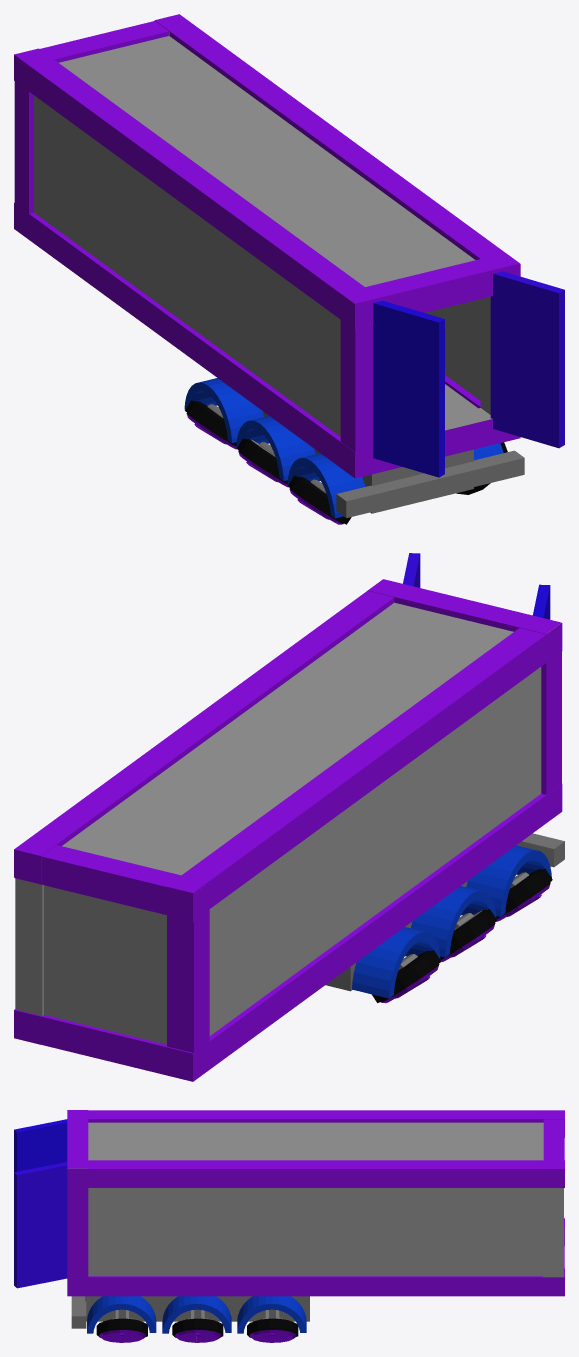
Rendered from trailer2_one_figure_colored.fbx.
The picture shows the model from 3 angles, top to bottom: view 1: azimuth 30°, elevation 25°; view 2: azimuth 150°, elevation 25°; view 3: azimuth 270°, elevation 25°; orthographic projection. The views are drawn at different scales.
Parts seen in each view (by area): view 1: Cube.024, Cube.092, Cube.000; view 2: Cube.024; view 3: Cube.024, Cube.092, Cube.000.
Boxes of the visible parts, left/top/right/bottom form: Cube.024: left=14, top=14, right=524, bottom=524; Cube.092: left=490, top=271, right=564, bottom=448; Cube.000: left=373, top=300, right=444, bottom=477; Cube.024: left=14, top=579, right=564, bottom=1081; Cube.024: left=67, top=1110, right=564, bottom=1342; Cube.092: left=14, top=1162, right=67, bottom=1288; Cube.000: left=14, top=1119, right=67, bottom=1172.
Bounding box in the file's own units: 334 × 383 × 1049.
